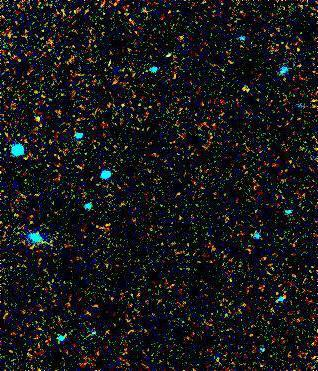star: (231, 75, 261, 105)
